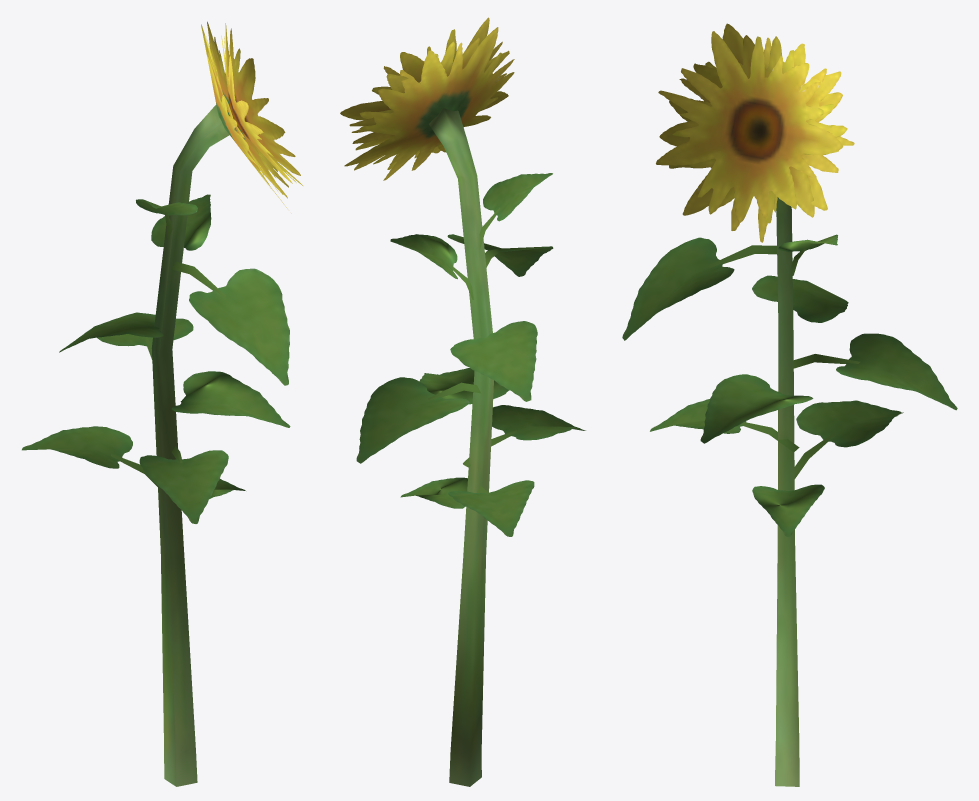
Rendered from P_Sunflower3.obj.
3 renders of one model, left to right at view 1: azimuth 30°, elevation 25°; view 2: azimuth 150°, elevation 25°; view 3: azimuth 270°, elevation 25°, orthographic. The views are drawn at different scales.
Size of the model in its own units: 0.5924 by 1.96 by 0.7973.
